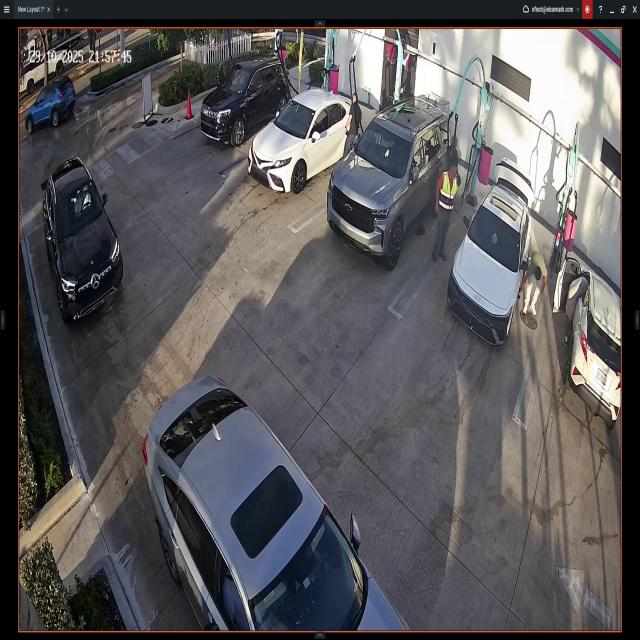Car: (144, 368, 413, 632), (328, 103, 455, 270), (452, 168, 533, 348), (45, 157, 123, 329), (248, 89, 357, 190), (560, 253, 620, 424), (199, 57, 288, 145), (25, 73, 76, 135)
